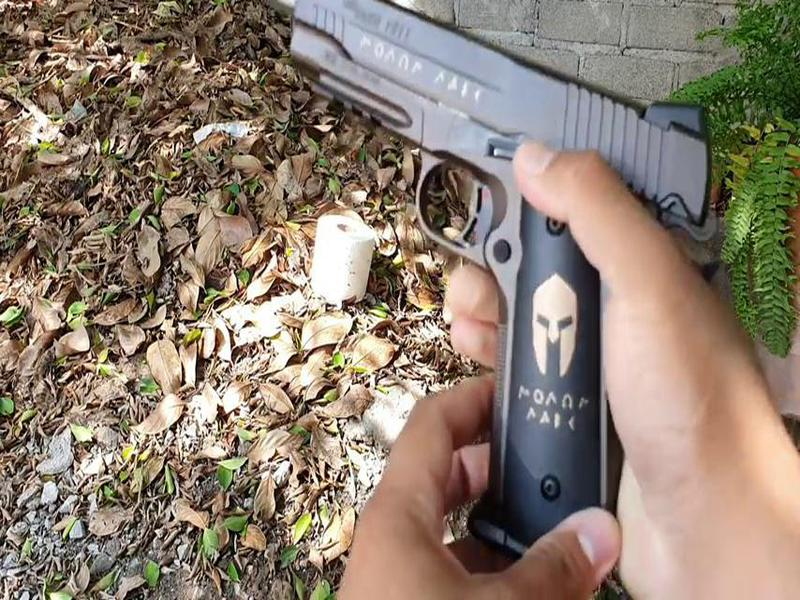Pistola: (282, 3, 729, 547)
